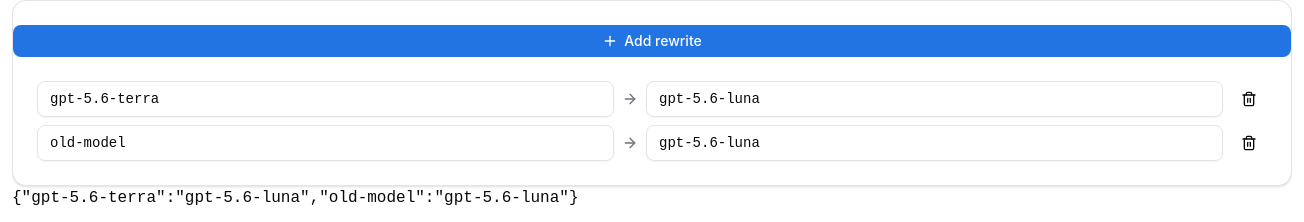
ModelRewritesTab › edits and removes a rewrite the application already has
Expected: the field named "rewrite 1 target model" holds "gpt-5.6-luna", [646, 81, 1223, 117]
Click the button named "remove rewrite 2" at (1249, 143), box [1231, 125, 1267, 161]
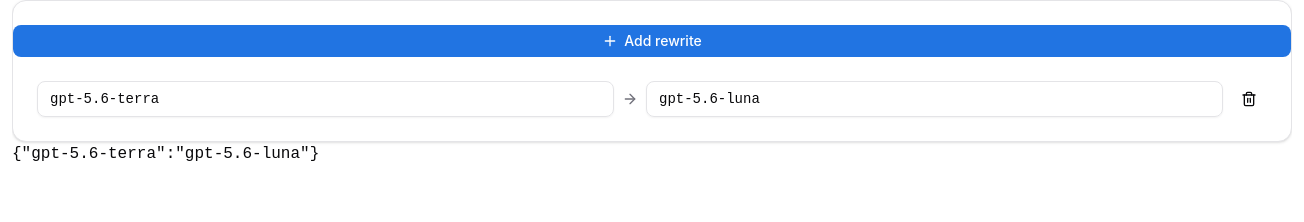
Expected: the number of buttons named "remove rewrite" is 1, [1231, 81, 1267, 117]
